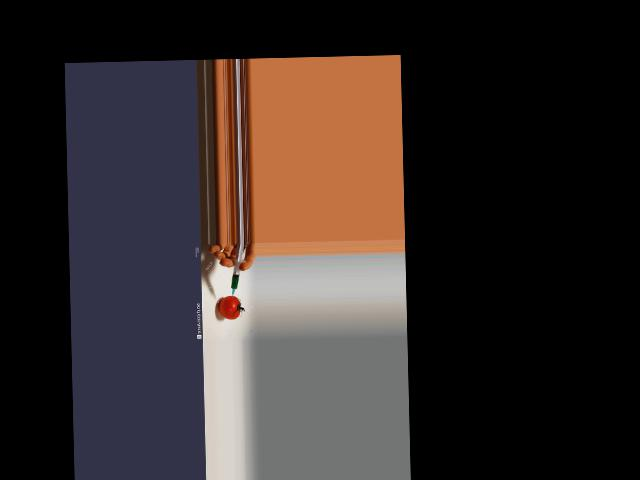tomato: (218, 295, 240, 319)
